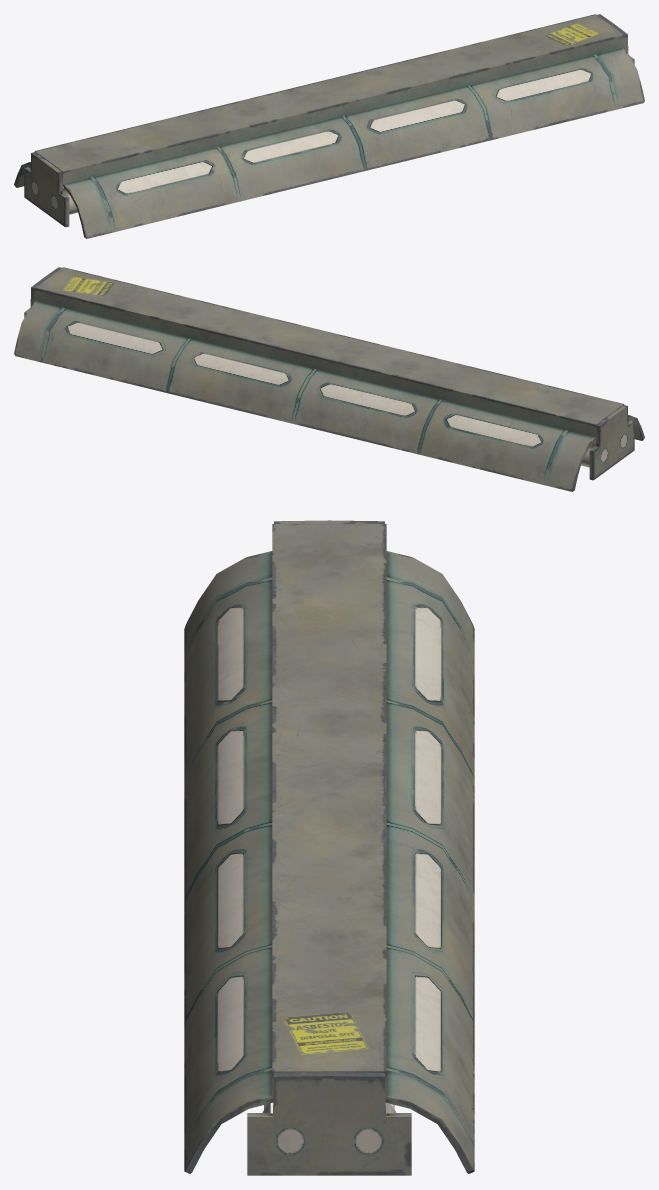
The model's file is Ceiling_Light.fbx.
The picture shows the model from 3 angles, top to bottom: view 1: azimuth 30°, elevation 25°; view 2: azimuth 150°, elevation 25°; view 3: azimuth 270°, elevation 25°; orthographic projection. The views are drawn at different scales.
Visible parts, largest first — view 1: Ceiling_Light_LOD0; view 2: Ceiling_Light_LOD0; view 3: Ceiling_Light_LOD0.
Part boxes in pixels (x1,y1,x2,y2): Ceiling_Light_LOD0: [14, 14, 644, 238]; Ceiling_Light_LOD0: [14, 267, 644, 491]; Ceiling_Light_LOD0: [184, 520, 474, 1175].
Size of what is drawn, in the model's own units: 192 by 16.97 by 42.42.
